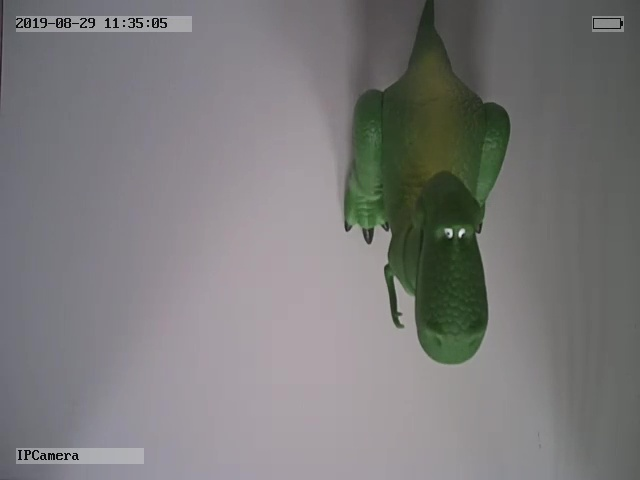rex: (339, 1, 513, 367)
